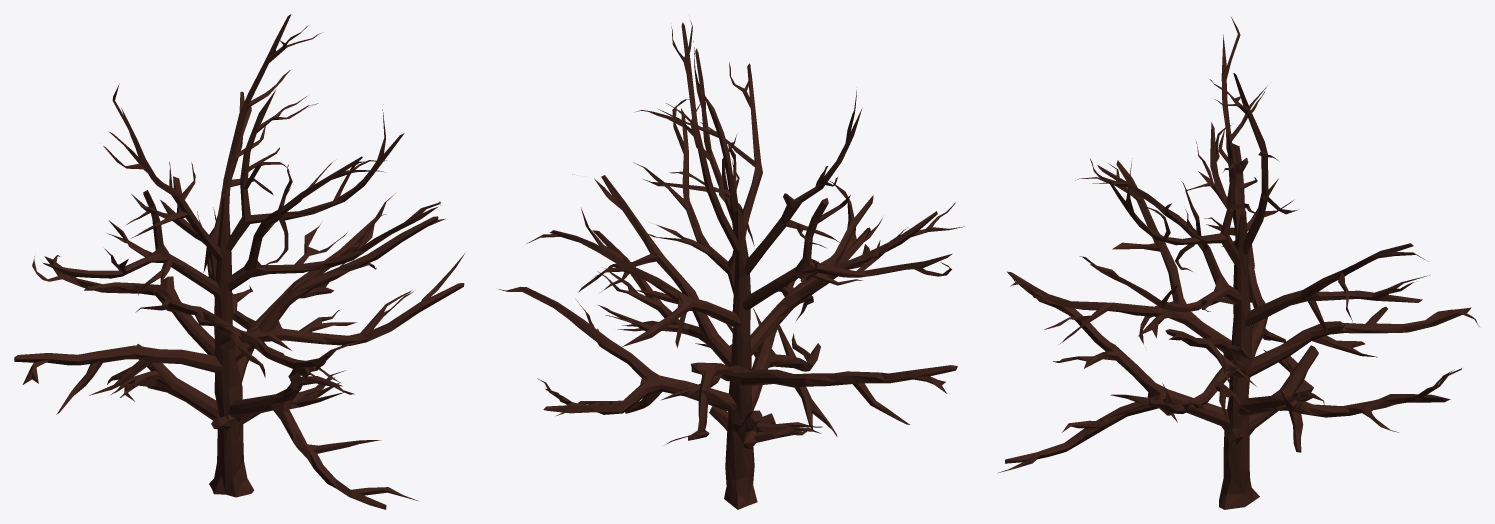
The model's file is dead_tree_a.FBX.
3 views of the same model, side by side, from view 1: azimuth 30°, elevation 25°; view 2: azimuth 150°, elevation 25°; view 3: azimuth 270°, elevation 25° (orthographic).
Visible parts, largest first — view 1: Group59935; view 2: Group59935; view 3: Group59935.
Part boxes in pixels (box(x1,y1,x2,y2)): Group59935: box(14, 14, 464, 509); Group59935: box(498, 20, 964, 509); Group59935: box(997, 17, 1479, 509).
Bounding box in the file's own units: 1541 × 1629 × 1567.
